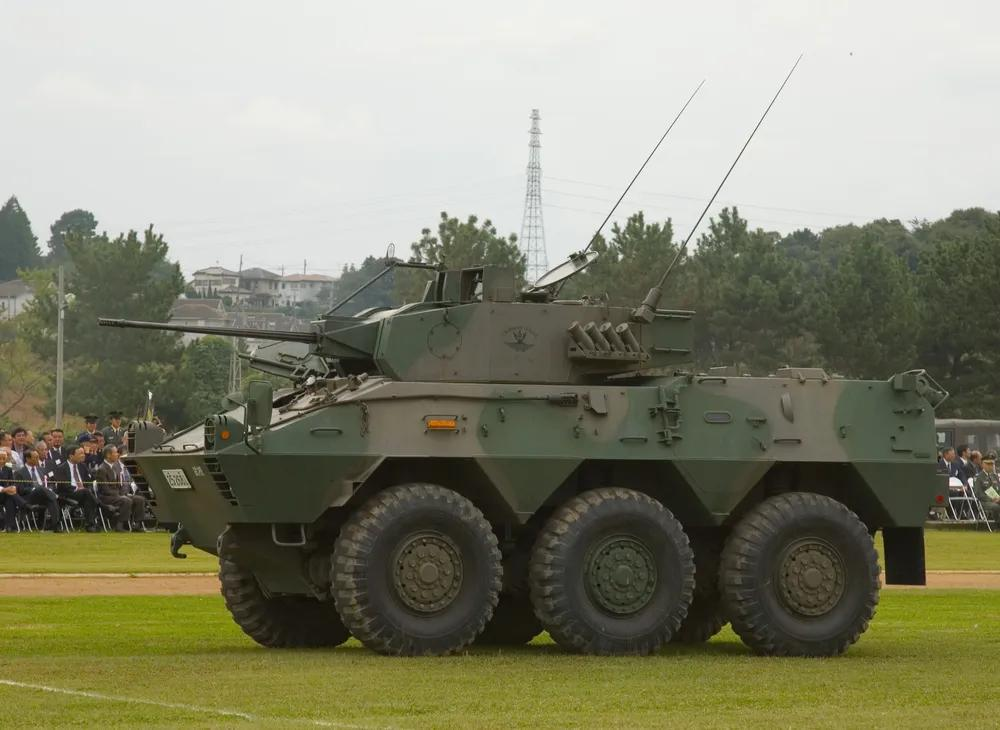MIL_IFV: (91, 253, 944, 656)
